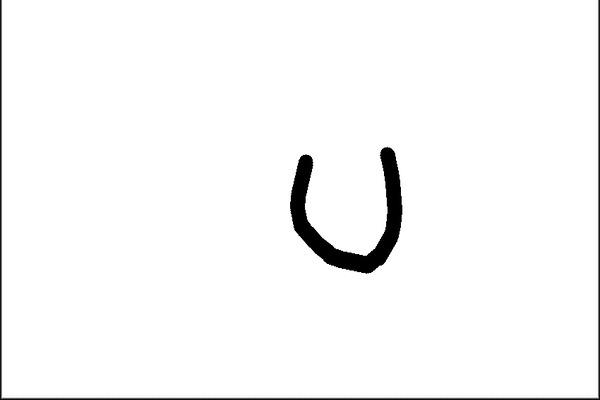U: (281, 133, 410, 276)
